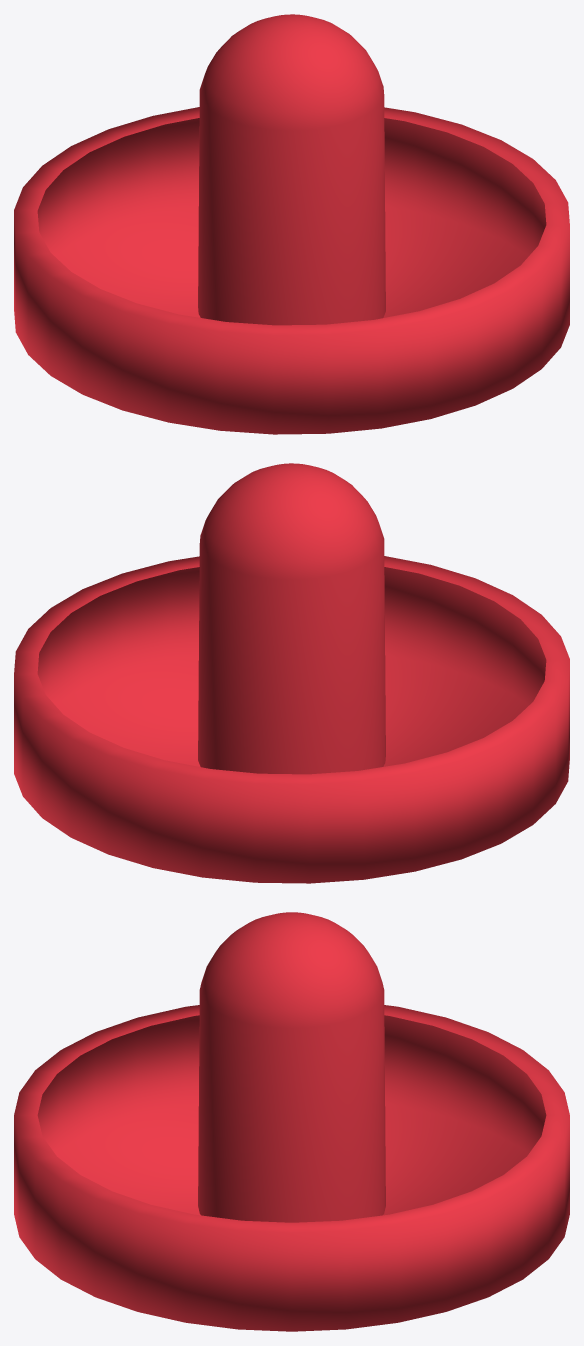
Rendered from 1734906419499-skin.glb.
3 renders of one model, top to bottom at view 1: azimuth 30°, elevation 25°; view 2: azimuth 150°, elevation 25°; view 3: azimuth 270°, elevation 25°, orthographic.
Parts seen in each view (by area): view 1: Sphere; view 2: Sphere; view 3: Sphere.
Part boxes in pixels (x1,y1,x2,y2): Sphere: [14, 14, 569, 434]; Sphere: [14, 463, 569, 883]; Sphere: [14, 912, 569, 1331].
Size of the model in its own units: 1.52 by 0.8836 by 1.52.
